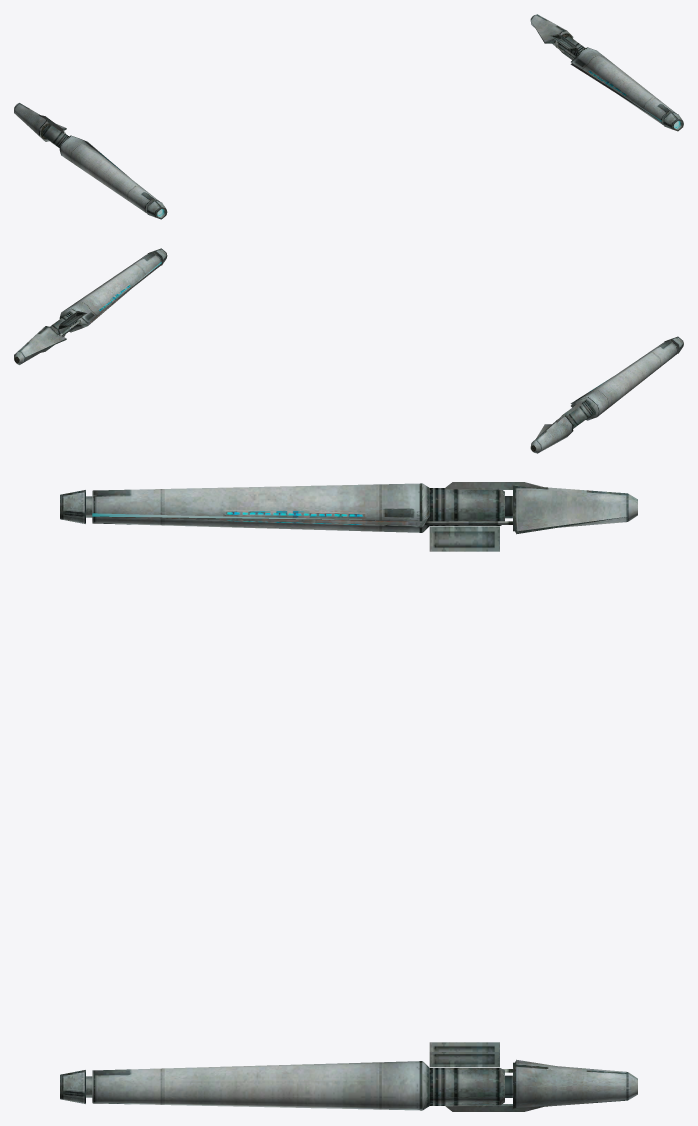
The model's file is xwing_weapon1_pos_s02_l1.fbx.
3 renders of one model, top to bottom at view 1: azimuth 30°, elevation 25°; view 2: azimuth 150°, elevation 25°; view 3: azimuth 270°, elevation 25°, orthographic. The views are drawn at different scales.
Parts seen in each view (by area): view 1: mesh_node; view 2: mesh_node; view 3: mesh_node.
Boxes of the visible parts, left/top/right/bottom form: mesh_node: left=14, top=14, right=683, bottom=219; mesh_node: left=14, top=248, right=683, bottom=453; mesh_node: left=60, top=482, right=637, bottom=1111.
Bounding box in the file's own units: 13.95 × 1.55 × 6.48.
Materials: 1 (1 with a texture image).
